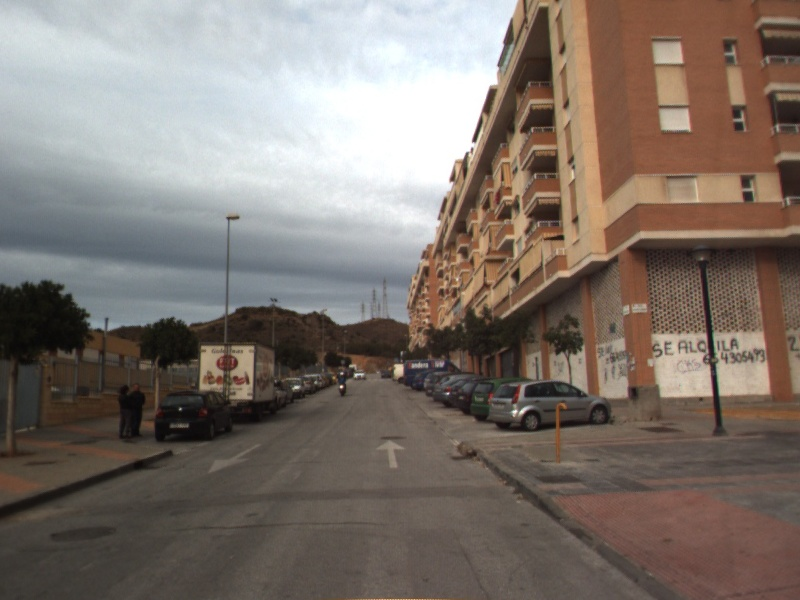STRAIGHT: (374, 437, 408, 470)
